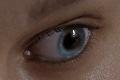eye: (56, 27, 86, 58)
